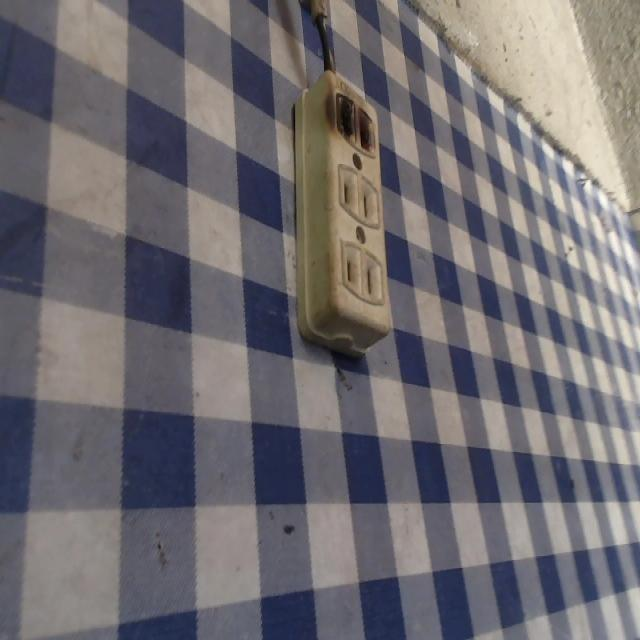-: (323, 76, 378, 156)
